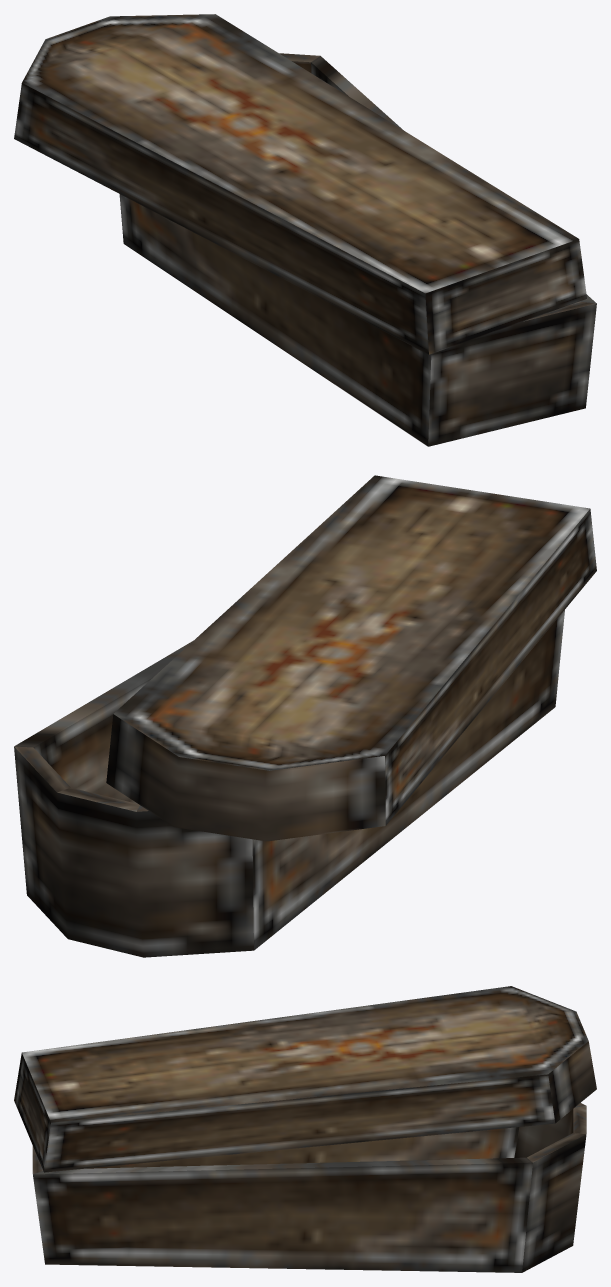
3 views of the same model, one above another, from view 1: azimuth 30°, elevation 25°; view 2: azimuth 150°, elevation 25°; view 3: azimuth 270°, elevation 25° (orthographic). The views are drawn at different scales.
Visible parts, largest first — view 1: SMDImport; view 2: SMDImport; view 3: SMDImport.
Part boxes in pixels (<box>): SMDImport: <box>14,14,596,446</box>; SMDImport: <box>14,475,596,957</box>; SMDImport: <box>14,986,596,1272</box>.
Bounding box in the file's own units: 132 × 76.45 × 250.
